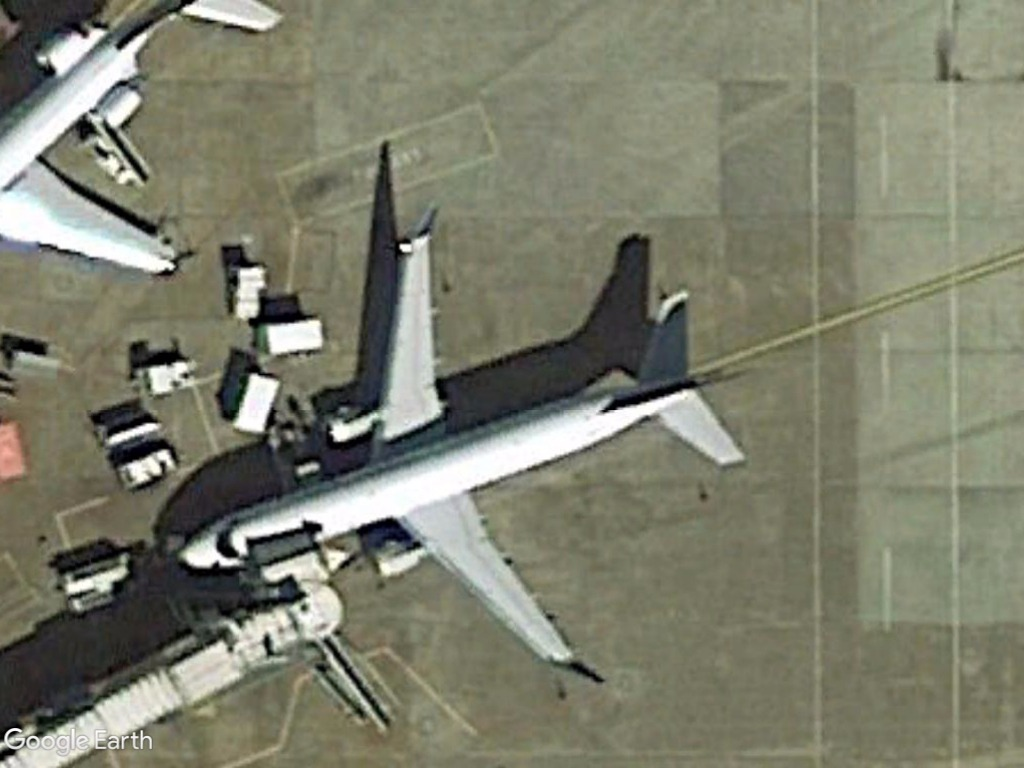airliner: (174, 229, 752, 684)
